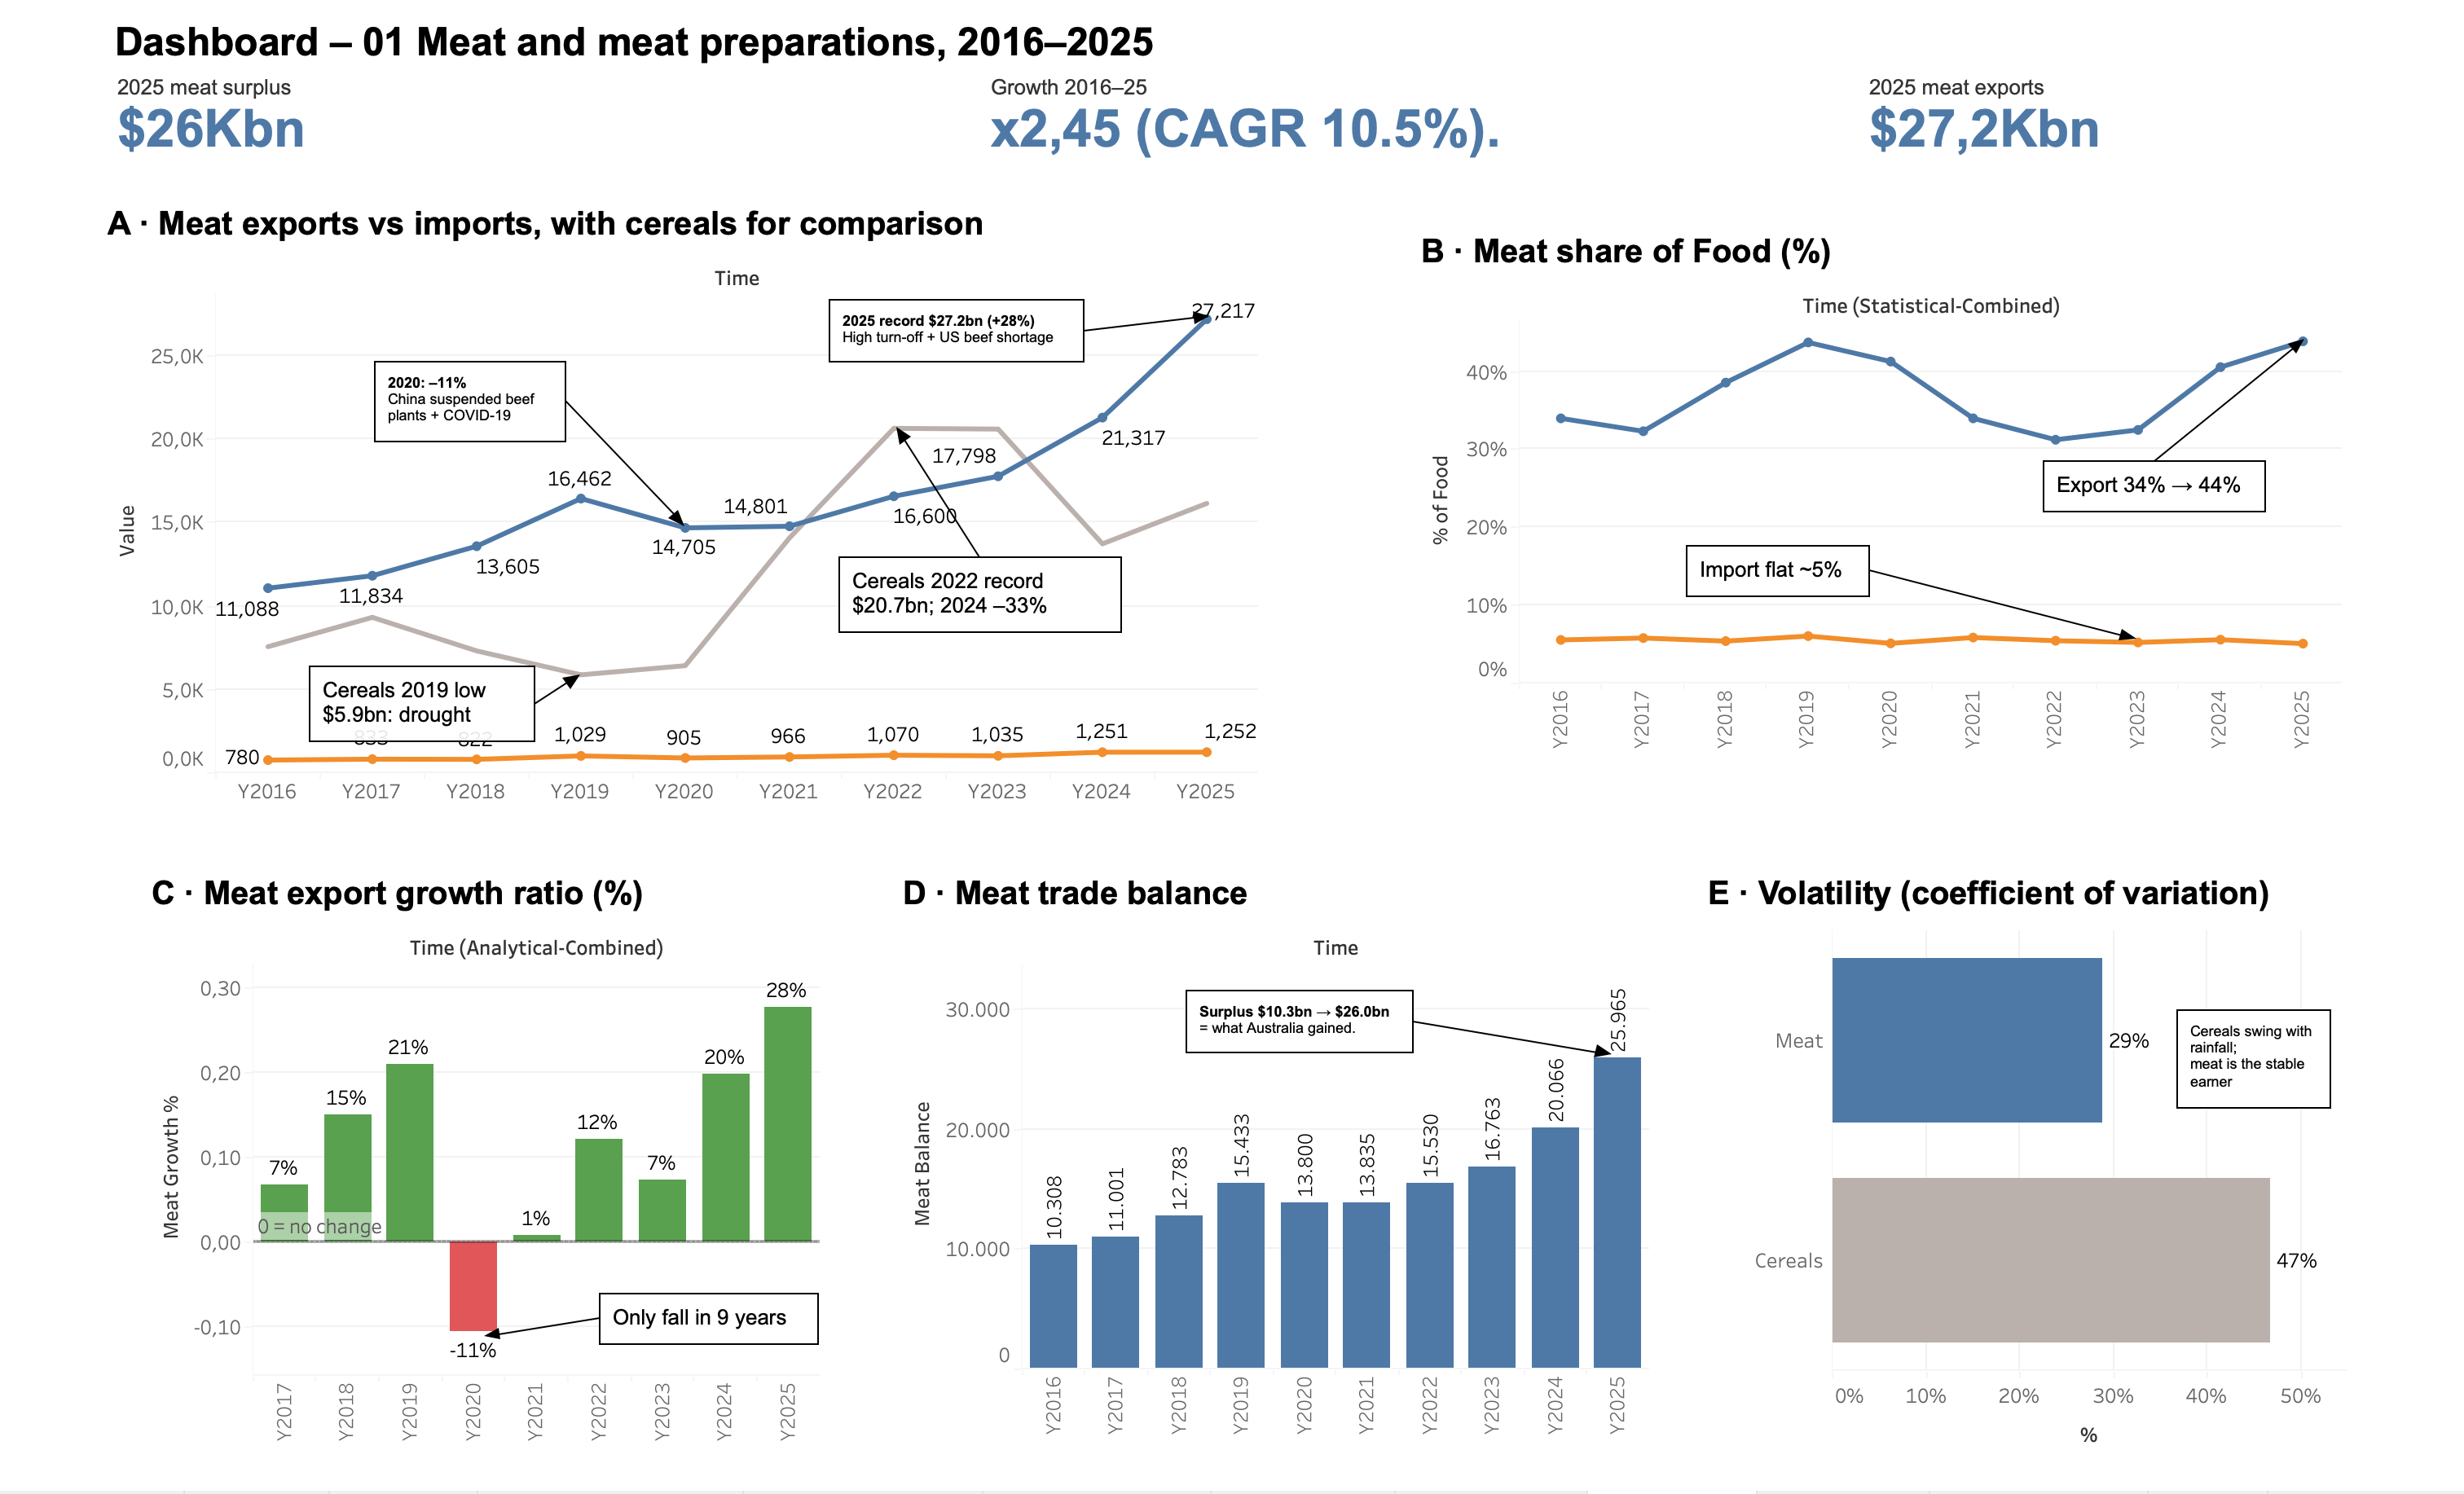

What the dashboard file says about the page in this screenshot:
{"tool":"tableau","page":{"name":"Dashboard 3","canvas":[1000,1000],"units":"permille","ordinal":1},"visuals":[{"type":"title","box":[6.2,10.4,987.7,45.4]},{"type":"worksheet","title":"KPI – Surplus","mark":"Automatic","box":[6.2,55.8,382.6,76.5]},{"type":"worksheet","title":"KPI – Growth","mark":"Automatic","box":[388.8,55.8,384.4,933.8]},{"type":"worksheet","title":"KPI – Export 2025","mark":"Automatic","box":[773.2,55.8,220.7,933.8]},{"type":"worksheet","title":"Meat – A Export vs Import","mark":"Line","cols":["Time"],"box":[1.5,129,512.7,416.2]},{"type":"worksheet","title":"Meat – B Share of Food","mark":"Line","rows":["01 Meat and meat preparations ; (Statistical-Combined)"],"cols":["Time (Statistical-Combined)"],"box":[576.9,147.7,412.7,379.8]},{"type":"worksheet","title":"Meat – C Growth ratio","mark":"Bar","rows":["Calculation_0369427151593484"],"cols":["Time (Analytical-Combined)"],"box":[20.9,578,301.5,413.8]},{"type":"worksheet","title":"Meat – D Balance","mark":"Bar","rows":["Calculation_0369427132071940"],"cols":["Time"],"box":[350,578,335.8,410.3]},{"type":"worksheet","title":"Meat – E Volatility","mark":"Bar","box":[703,578,288.8,405.6]}]}

Visuals, with their boxes on the dashboard's canvas, which has no fixed pixel size, in thousandths of its width and height (x1, y1, x2, y2). These are canvas units, not pixel positions in the 2464x1494 screenshot, which may show the page scaled, cropped or inside an application window:
title: [6,10,994,56]
"KPI – Surplus" worksheet: [6,56,389,132]
"KPI – Growth" worksheet: [389,56,773,990]
"KPI – Export 2025" worksheet: [773,56,994,990]
"Meat – A Export vs Import" worksheet (Line marks): [2,129,514,545]
"Meat – B Share of Food" worksheet (Line marks): [577,148,990,528]
"Meat – C Growth ratio" worksheet (Bar marks): [21,578,322,992]
"Meat – D Balance" worksheet (Bar marks): [350,578,686,988]
"Meat – E Volatility" worksheet (Bar marks): [703,578,992,984]
